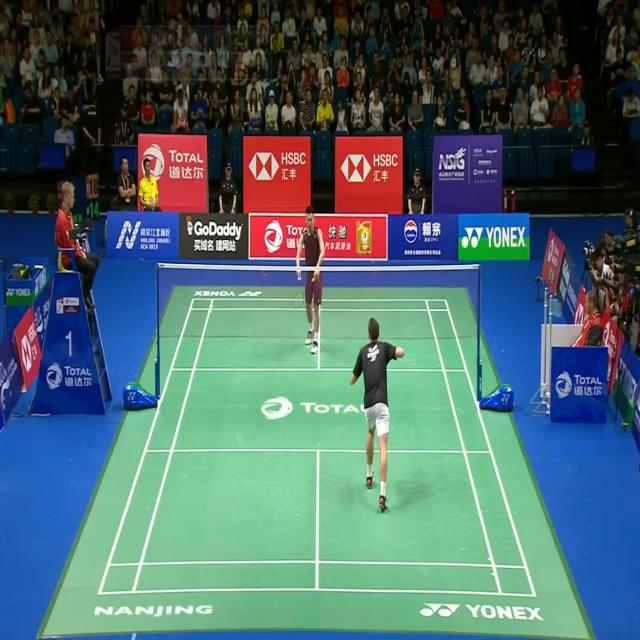Player1: (342, 308, 413, 518)
Player2: (293, 199, 329, 375)
